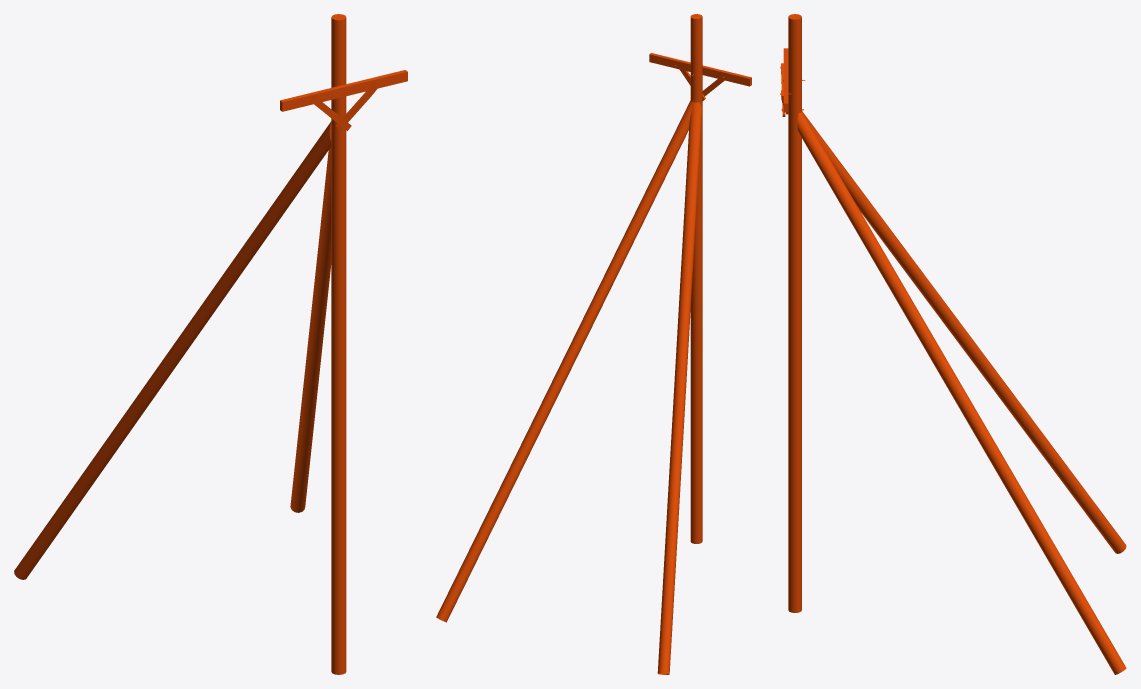
The model's file is Support_001.FBX.
The picture shows the model from 3 angles, left to right: view 1: azimuth 30°, elevation 25°; view 2: azimuth 150°, elevation 25°; view 3: azimuth 270°, elevation 25°; orthographic projection. The views are drawn at different scales.
Parts seen in each view (by area): view 1: Support_001, Cross_001; view 2: Support_001, Cross_001; view 3: Support_001, Cross_001.
Boxes of the visible parts, x1,y1,x2,y2 form: Support_001: [14, 14, 346, 674]; Cross_001: [280, 70, 407, 130]; Support_001: [436, 14, 702, 674]; Cross_001: [649, 53, 751, 101]; Support_001: [788, 14, 1126, 674]; Cross_001: [780, 48, 805, 116].
Size of the model in its own units: 445 by 967 by 508.
